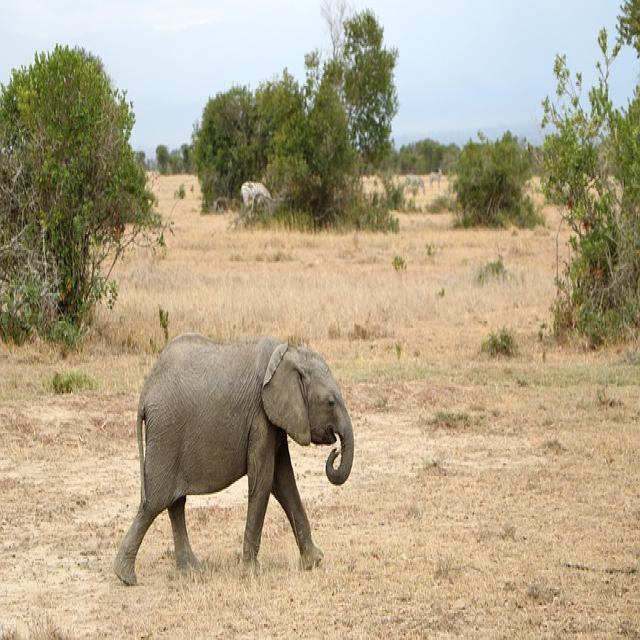FIL: (112, 334, 356, 585)
